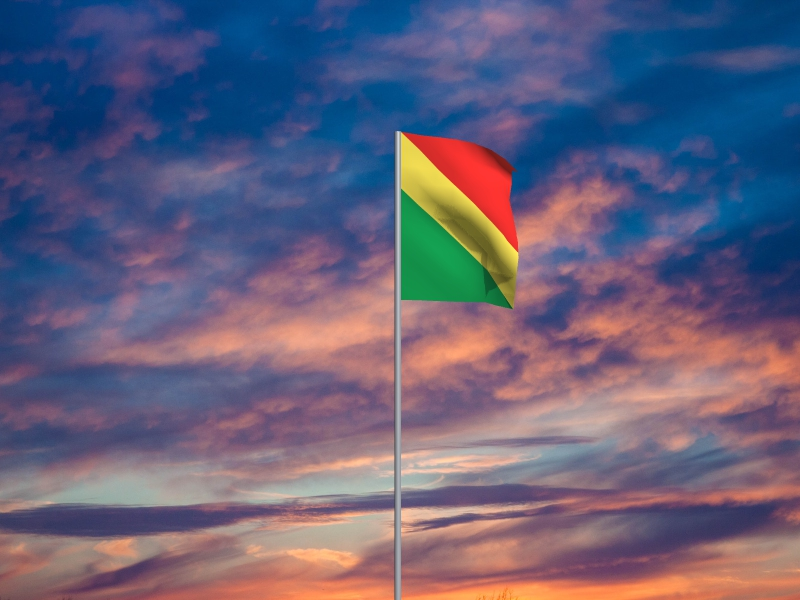cg: (401, 133, 520, 311)
